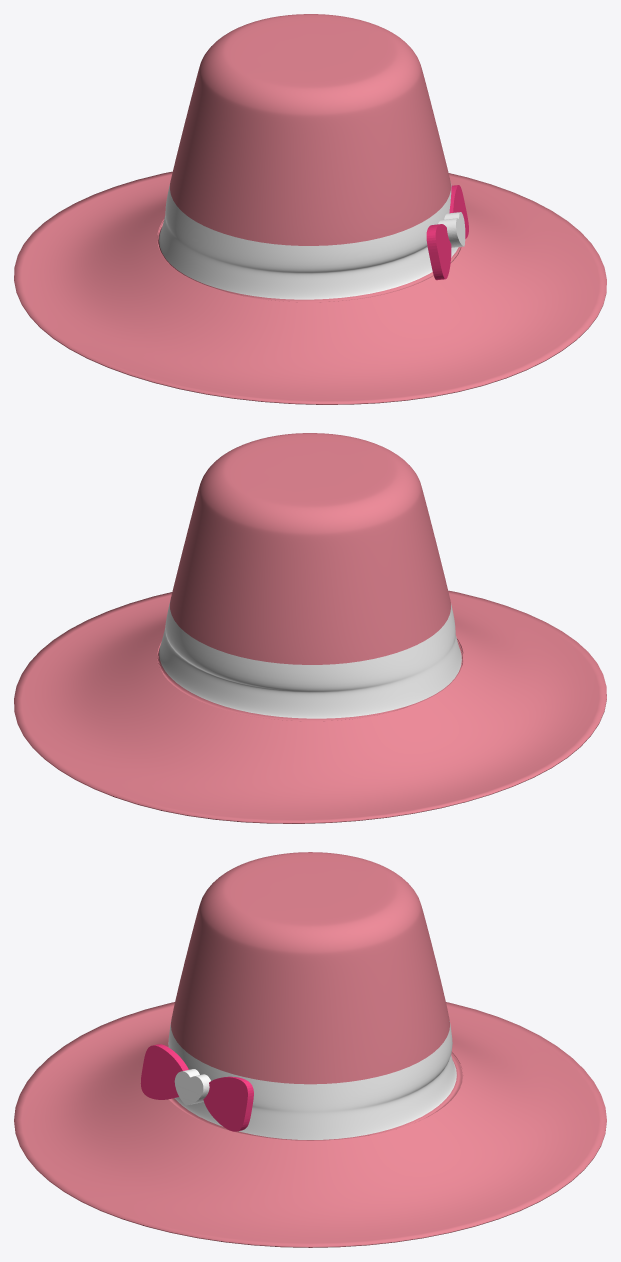
The model's file is Hat.fbx.
The picture shows the model from 3 angles, top to bottom: view 1: azimuth 30°, elevation 25°; view 2: azimuth 150°, elevation 25°; view 3: azimuth 270°, elevation 25°; orthographic projection.
Visible parts, largest first — view 1: Cylinder, Curve.004, Curve.012; view 2: Cylinder; view 3: Cylinder, Curve.006, Curve.004, Curve.012.
Part boxes in pixels (bbox=[...]): Cylinder: bbox=[14, 14, 606, 404]; Curve.004: bbox=[426, 224, 451, 280]; Curve.012: bbox=[438, 212, 465, 247]; Cylinder: bbox=[14, 433, 606, 823]; Cylinder: bbox=[14, 852, 606, 1247]; Curve.006: bbox=[203, 1076, 253, 1131]; Curve.004: bbox=[140, 1044, 188, 1099]; Curve.012: bbox=[174, 1069, 210, 1105].
Bounding box in the file's own units: 506 × 220 × 506.
